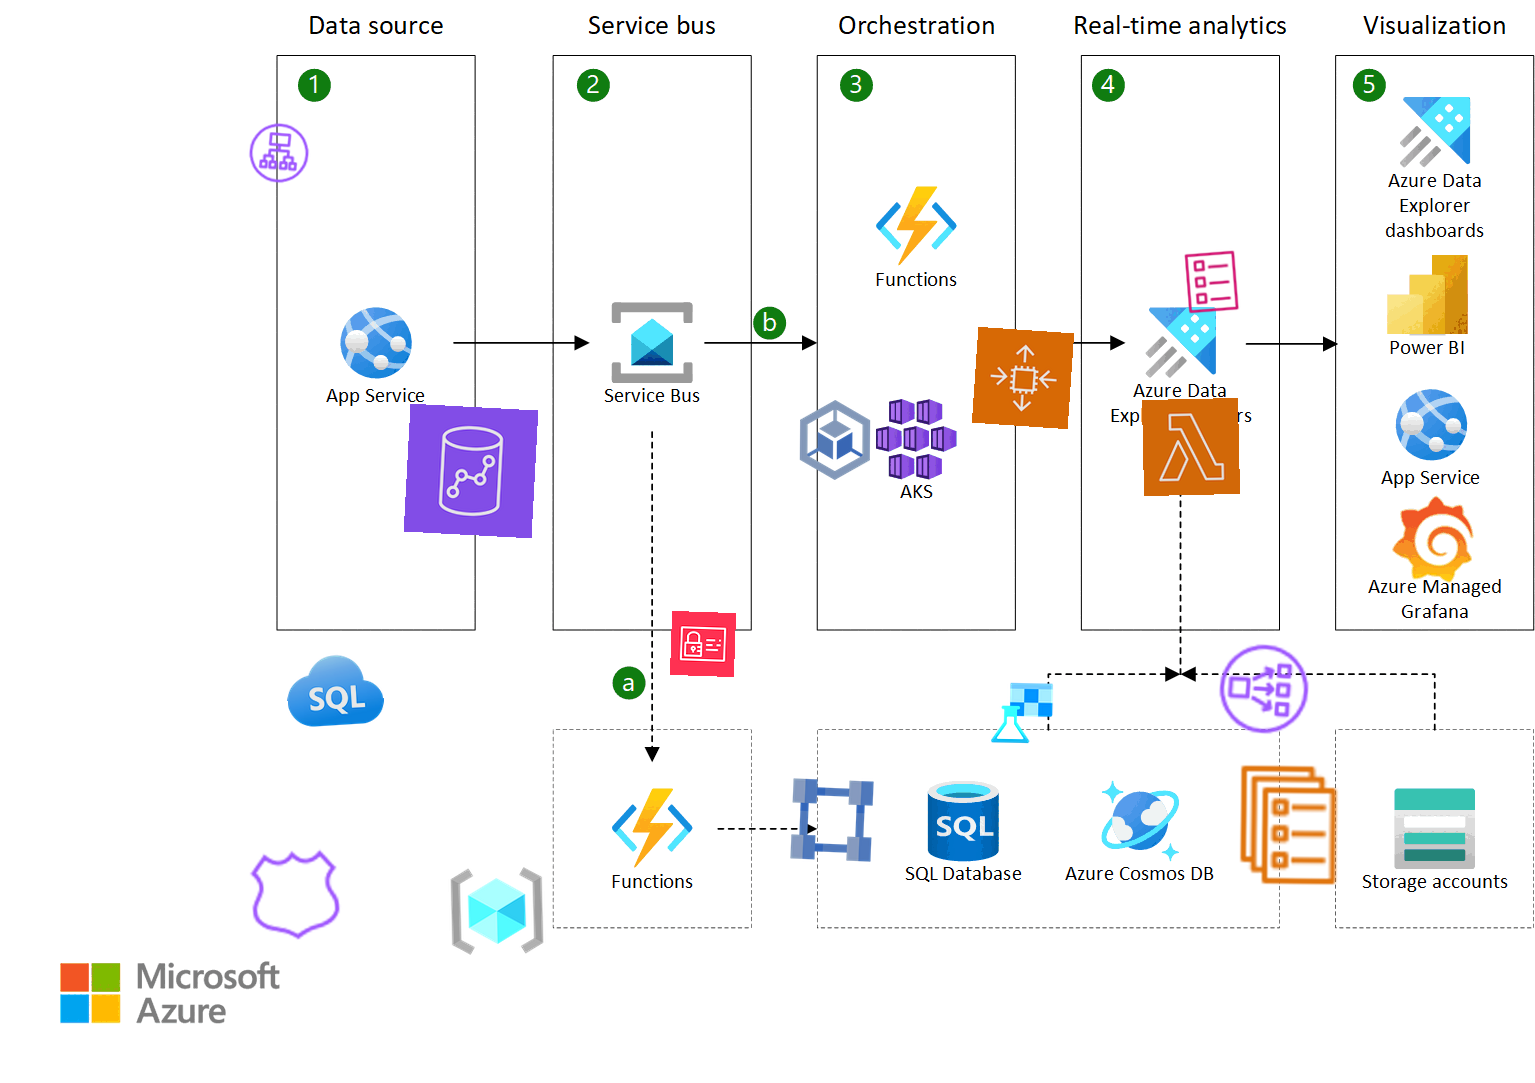aws_amazon_ec2_auto_scaling: (971, 326, 1074, 430)
aws_amazon_redshift: (403, 403, 539, 539)
aws_cloudformation_template: (1176, 247, 1246, 316)
aws_elastic_container_service_service: (1224, 760, 1355, 890)
aws_elastic_load_balancing_application_load_balancer: (244, 118, 314, 188)
aws_elastic_load_balancing_network_load_balancer: (1213, 638, 1315, 740)
aws_identity_and_access_management: (669, 609, 737, 677)
aws_lambda: (1141, 397, 1241, 497)
aws_route_53_hosted_zone: (244, 843, 348, 947)
azure_machine_learning_studio_workspaces: (989, 680, 1055, 745)
azure_resource_groups: (446, 861, 547, 961)
azure_sql: (284, 641, 386, 743)
gcp_google_kubernetes_engine: (786, 391, 884, 489)
gcp_virtual_private_cloud: (782, 770, 882, 870)
